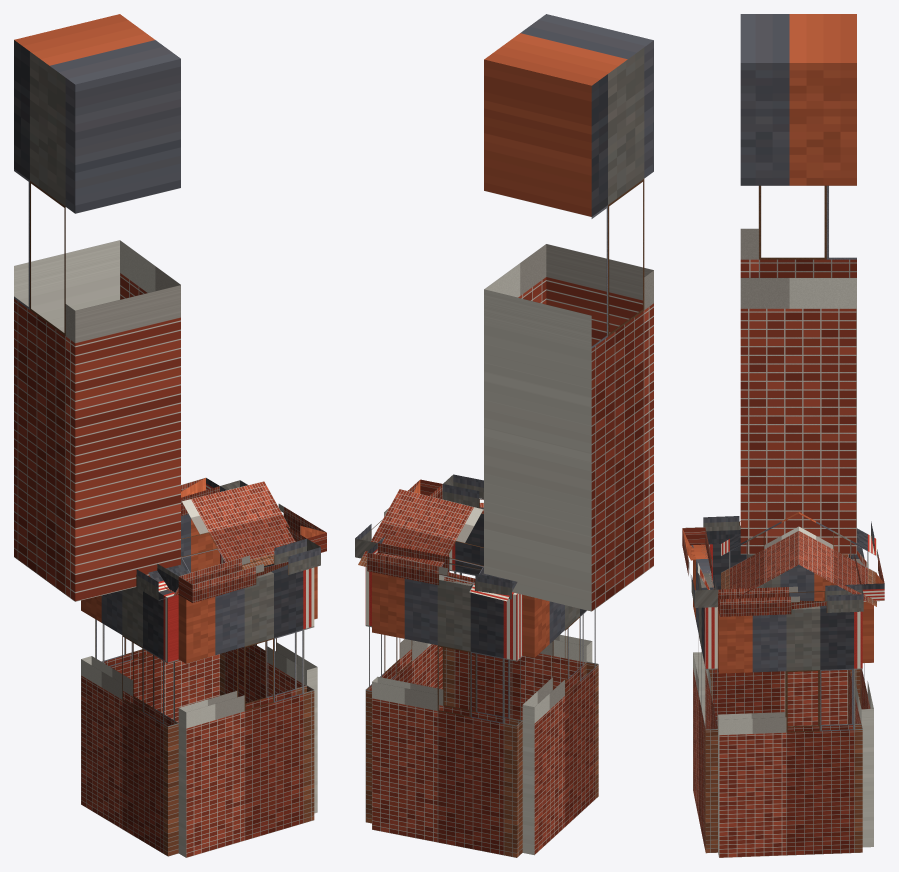
3 renders of one model, left to right at view 1: azimuth 30°, elevation 25°; view 2: azimuth 150°, elevation 25°; view 3: azimuth 270°, elevation 25°, orthographic. The views are drawn at different scales.
Visible parts, largest first — view 1: 1106966929__chimney_0_xb, 1106966929__wall_1_xb, 1106966929__wall_2_xb, 1106966929_roof_-1_xb, 1106966929__wall_3_xb, 1106966929__wall_0_xb, 1106966929__cornice_1, 1106966929__cornice_0, 1106966929__cornice_2, 1106966929__cornice_3; view 2: 1106966929__chimney_0_xb, 1106966929__wall_3_xb, 1106966929__wall_2_xb, 1106966929__wall_1_xb, 1106966929_roof_1_xb, 1106966929__wall_0_xb, 1106966929__cornice_3, 1106966929__cornice_1, 1106966929__cornice_0; view 3: 1106966929__chimney_0_xb, 1106966929__wall_0_xb, 1106966929__wall_2_xb, 1106966929__wall_1_xb, 1106966929__cornice_0, 1106966929__wall_3_xb, 1106966929_roof_1_xb, 1106966929_roof_-1_xb, 1106966929__cornice_1, 1106966929__cornice_2, 1106966929__cornice_3.
Part boxes in pixels (box(x1,y1,x2,y2)): 1106966929__chimney_0_xb: box(14, 14, 180, 601); 1106966929__wall_1_xb: box(178, 565, 314, 857); 1106966929__wall_2_xb: box(81, 587, 178, 856); 1106966929_roof_-1_xb: box(148, 481, 295, 591); 1106966929__wall_3_xb: box(95, 514, 219, 722); 1106966929__wall_0_xb: box(220, 553, 317, 813); 1106966929__cornice_1: box(178, 538, 320, 602); 1106966929__cornice_0: box(220, 480, 326, 552); 1106966929__cornice_2: box(136, 564, 178, 600); 1106966929__cornice_3: box(181, 477, 219, 515); 1106966929__chimney_0_xb: box(484, 14, 653, 611); 1106966929__wall_3_xb: box(372, 572, 522, 857); 1106966929__wall_2_xb: box(522, 595, 598, 855); 1106966929__wall_1_xb: box(442, 507, 592, 720); 1106966929_roof_1_xb: box(358, 489, 517, 601); 1106966929__wall_0_xb: box(365, 567, 442, 823); 1106966929__cornice_3: box(367, 543, 511, 599); 1106966929__cornice_1: box(442, 474, 483, 509); 1106966929__cornice_0: box(355, 479, 442, 558); 1106966929__chimney_0_xb: box(740, 14, 856, 554); 1106966929__wall_0_xb: box(718, 605, 862, 857); 1106966929__wall_2_xb: box(709, 544, 847, 727); 1106966929__wall_1_xb: box(693, 544, 717, 853); 1106966929__cornice_0: box(718, 584, 863, 616); 1106966929__wall_3_xb: box(848, 545, 873, 847); 1106966929_roof_1_xb: box(799, 512, 876, 606); 1106966929_roof_-1_xb: box(721, 512, 798, 598); 1106966929__cornice_1: box(682, 527, 717, 607); 1106966929__cornice_2: box(703, 516, 740, 544); 1106966929__cornice_3: box(851, 521, 884, 601).
Size of the model in its own units: 0.341 by 1.05 by 0.2614.
1 material, 1 textured.
